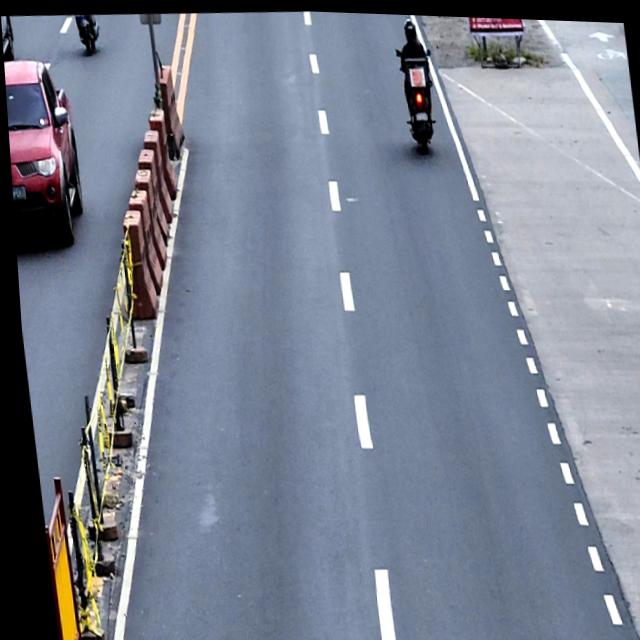Car: (3, 55, 89, 257), (1, 15, 19, 65)
License-Plate: (10, 183, 26, 204), (413, 107, 428, 119)
Motorcycle: (394, 42, 441, 151), (74, 14, 103, 54)
